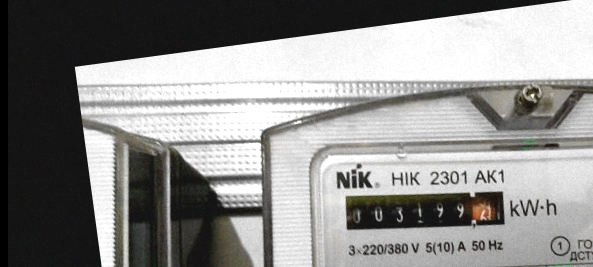0: (349, 204, 365, 224), (372, 202, 386, 222)
1: (414, 198, 425, 218)
3: (393, 204, 405, 224)
6: (478, 206, 490, 223)
9: (434, 199, 446, 218), (455, 200, 467, 219)
screen: (336, 169, 516, 253)
